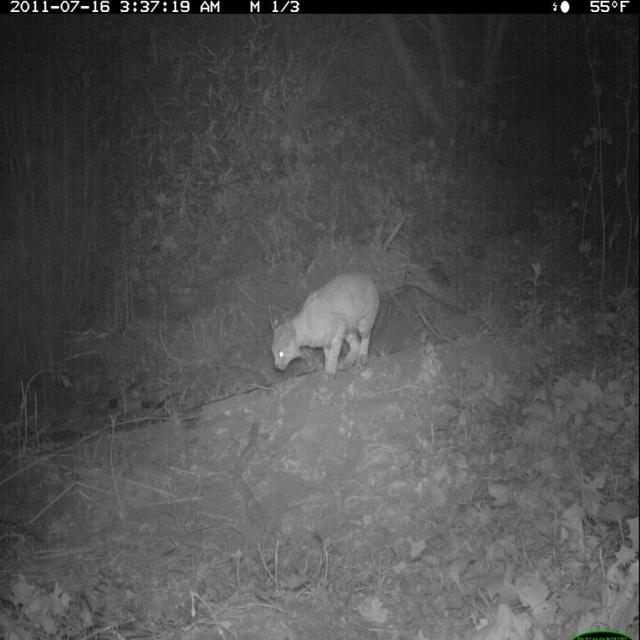bobcat: (267, 265, 388, 385)
